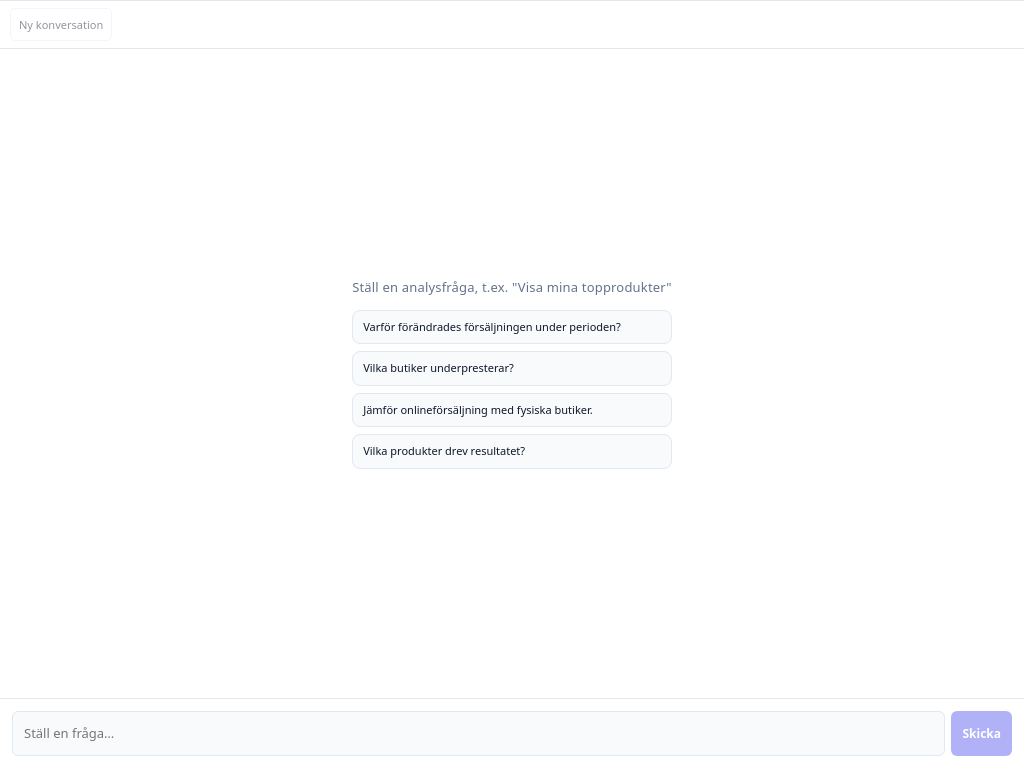
ChatPanel › sends the active dashboard context with a question
Type "what stands out?" into the field.
click(479, 733); type("what stands out?")  # box [12, 711, 945, 756]
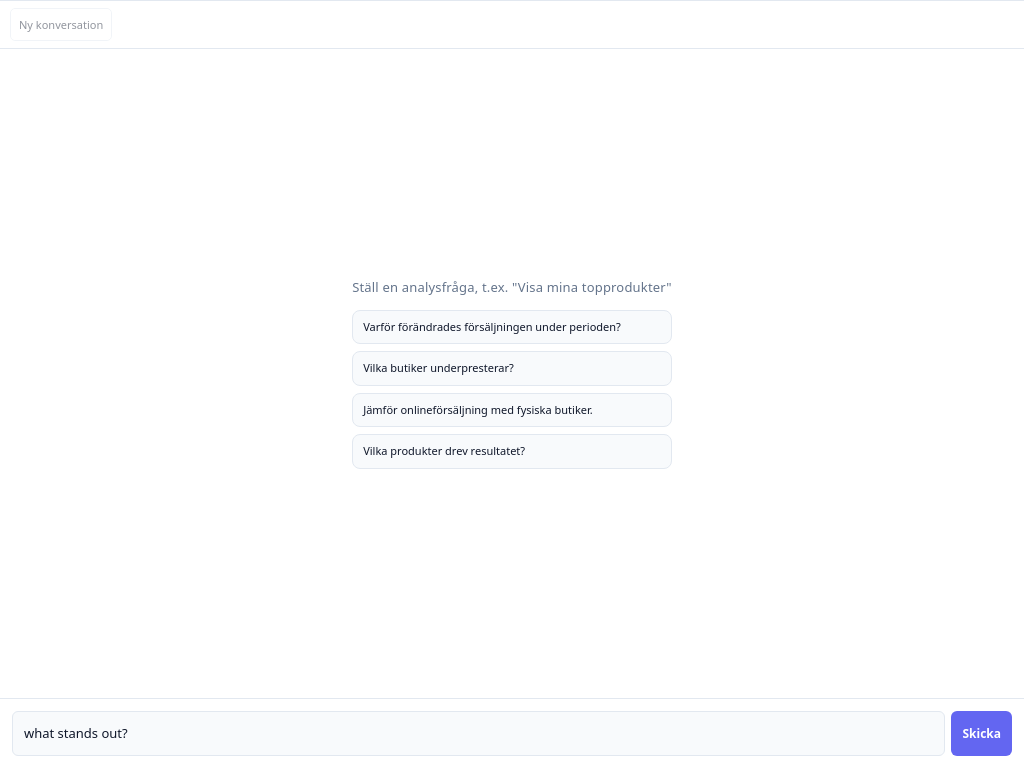
Submit the form, box [0, 698, 1023, 767]
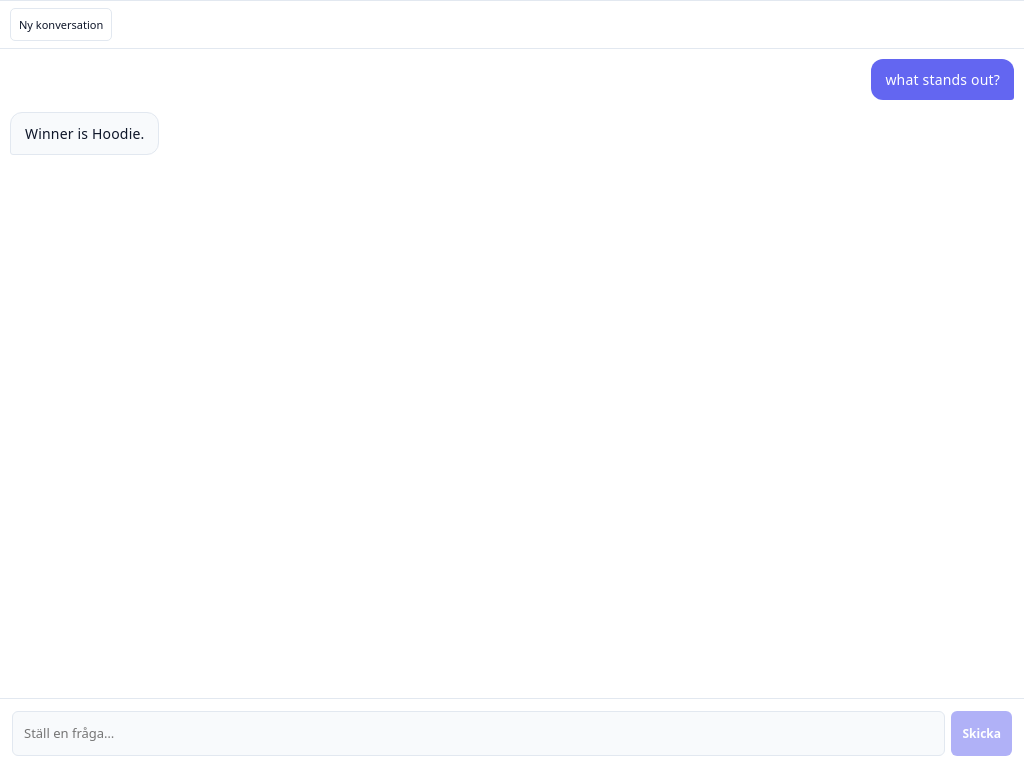
Expected: the text "Winner is Hoodie." is shown, [25, 123, 144, 144]
